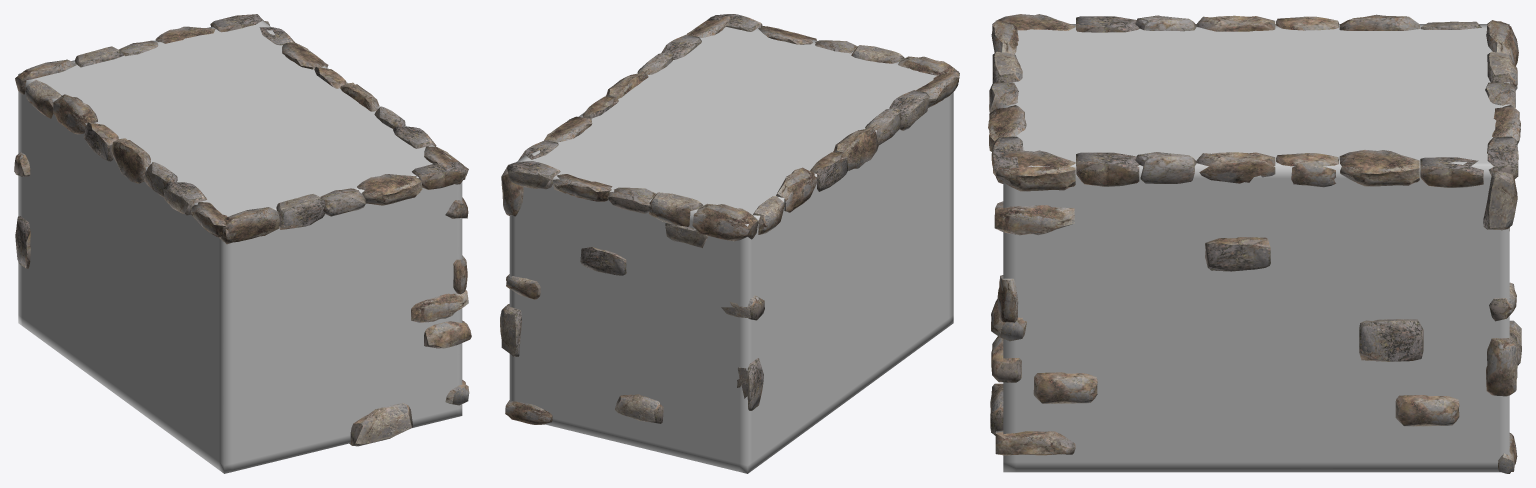
Rendered from SM_StairsBox02.FBX.
The picture shows the model from 3 angles, left to right: view 1: azimuth 30°, elevation 25°; view 2: azimuth 150°, elevation 25°; view 3: azimuth 270°, elevation 25°; orthographic projection. The views are drawn at different scales.
Parts seen in each view (by area): view 1: SM_StairsBox02; view 2: SM_StairsBox02; view 3: SM_StairsBox02.
Boxes of the visible parts, x1,y1,x2,y2 form: SM_StairsBox02: (14, 14, 471, 473); SM_StairsBox02: (500, 14, 959, 473); SM_StairsBox02: (988, 14, 1521, 473).
Size of the model in its own units: 329 by 475 by 315.
